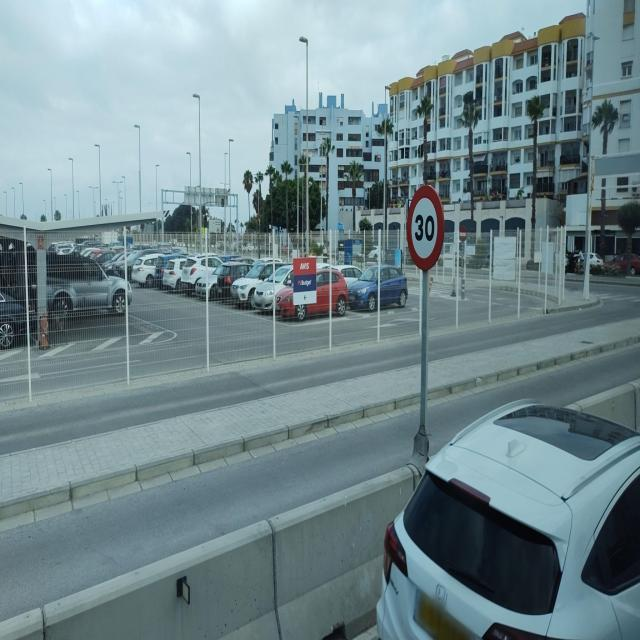car: (46, 256, 134, 313), (348, 264, 408, 311), (230, 257, 282, 309), (251, 265, 292, 314), (207, 260, 251, 302), (179, 253, 221, 297), (316, 267, 348, 317), (160, 257, 192, 292), (130, 256, 162, 288), (578, 251, 607, 275), (618, 252, 640, 276), (565, 251, 583, 274)
